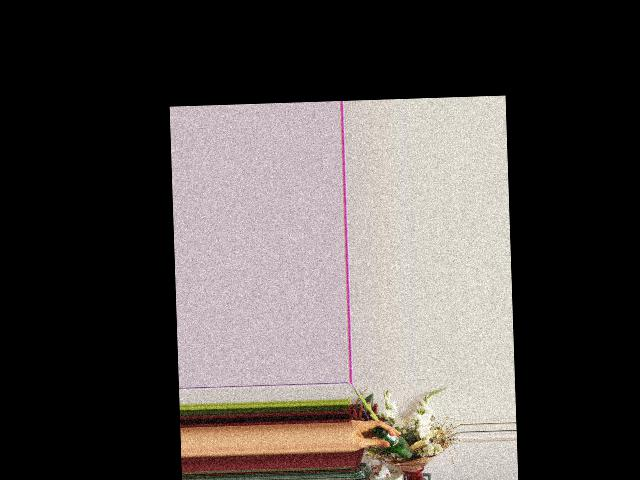beer: (372, 425, 412, 460)
